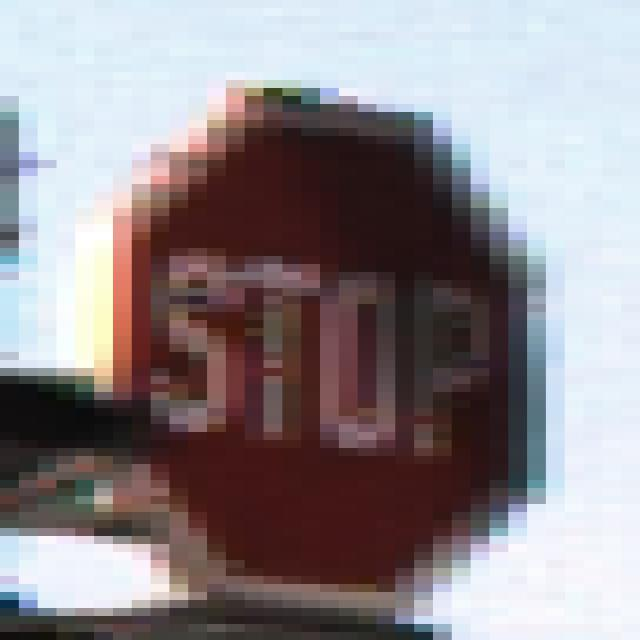STOP: (95, 65, 547, 585)
